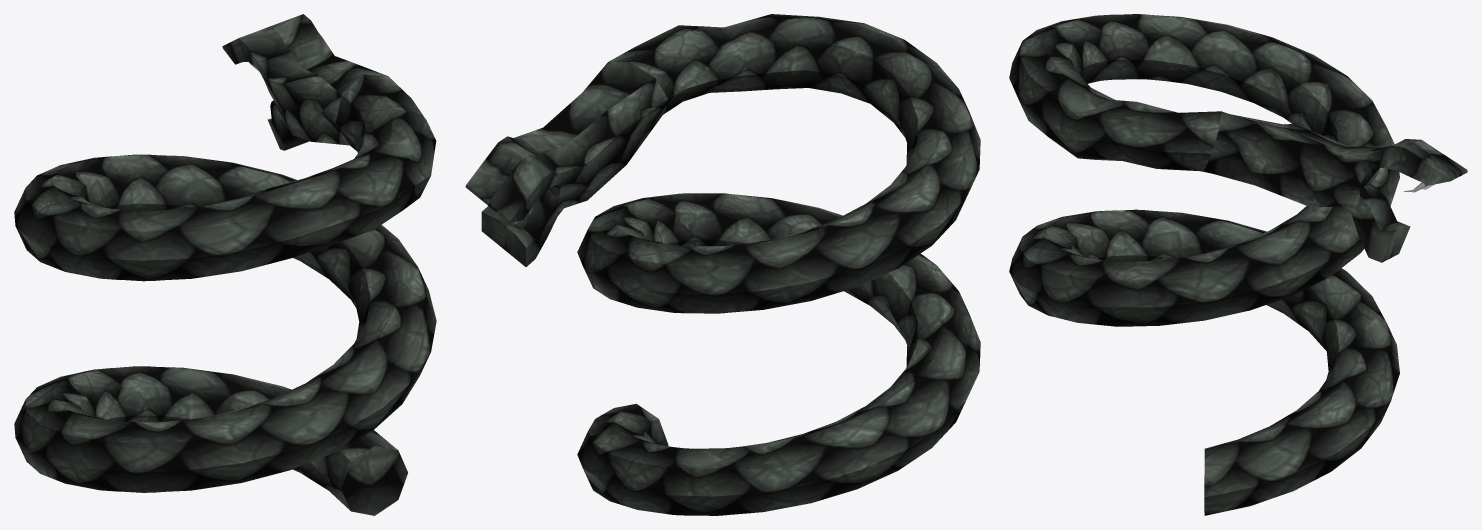
File: Sm_Snake_top.fbx
The picture shows the model from 3 angles, left to right: view 1: azimuth 30°, elevation 25°; view 2: azimuth 150°, elevation 25°; view 3: azimuth 270°, elevation 25°; orthographic projection. The views are drawn at different scales.
Visible parts, largest first — view 1: polySurface62; view 2: polySurface62; view 3: polySurface62.
Part boxes in pixels (x1,y1,x2,y2): polySurface62: (14, 14, 436, 515); polySurface62: (465, 14, 980, 515); polySurface62: (1009, 14, 1467, 515).
Bounding box in the file's own units: 0.7603 × 0.8001 × 0.821.
